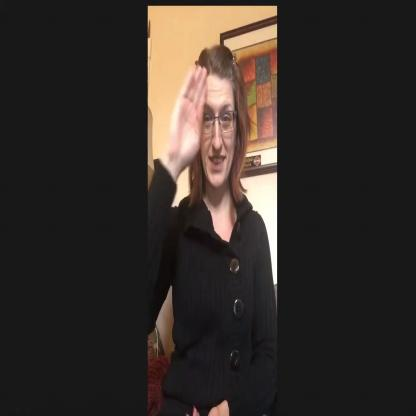Hello: (154, 38, 260, 235)
